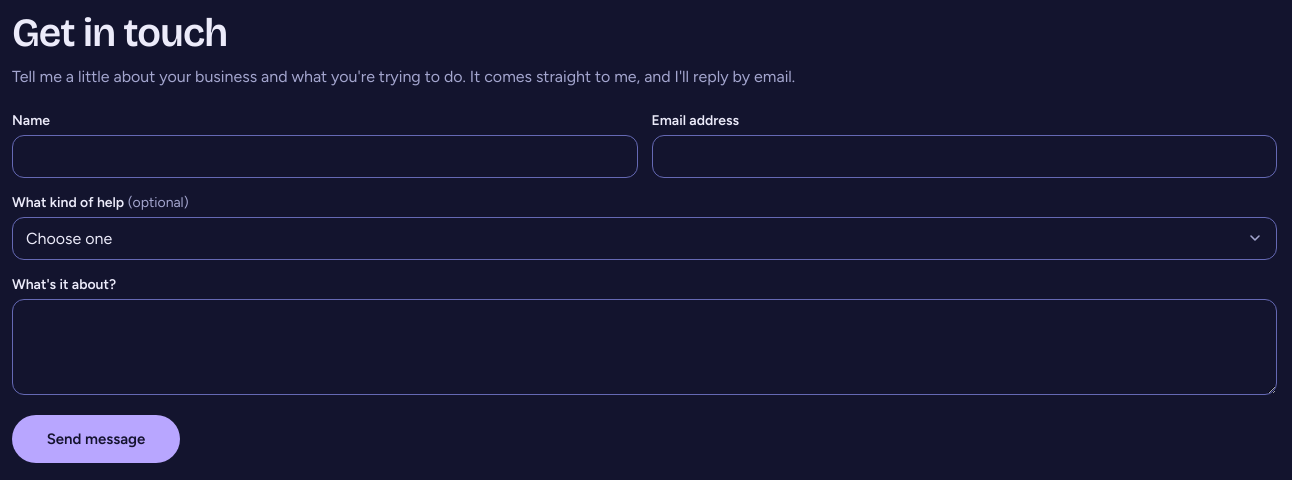
it: EnquiryForm › leaves out the kind of help when none is chosen
Step 1. Type "Ada" into the field labelled "Name" → point(325, 156), box x1=12 y1=135 x2=638 y2=178
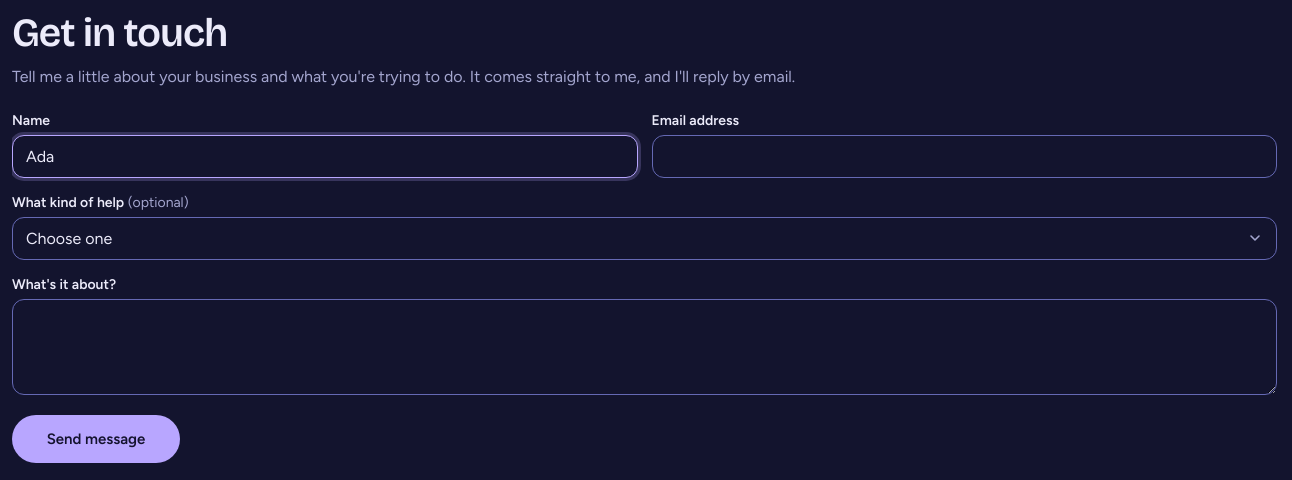
Step 2. Type "ada@example.com" into the field labelled "Email address" → point(964, 156), box x1=652 y1=135 x2=1277 y2=178
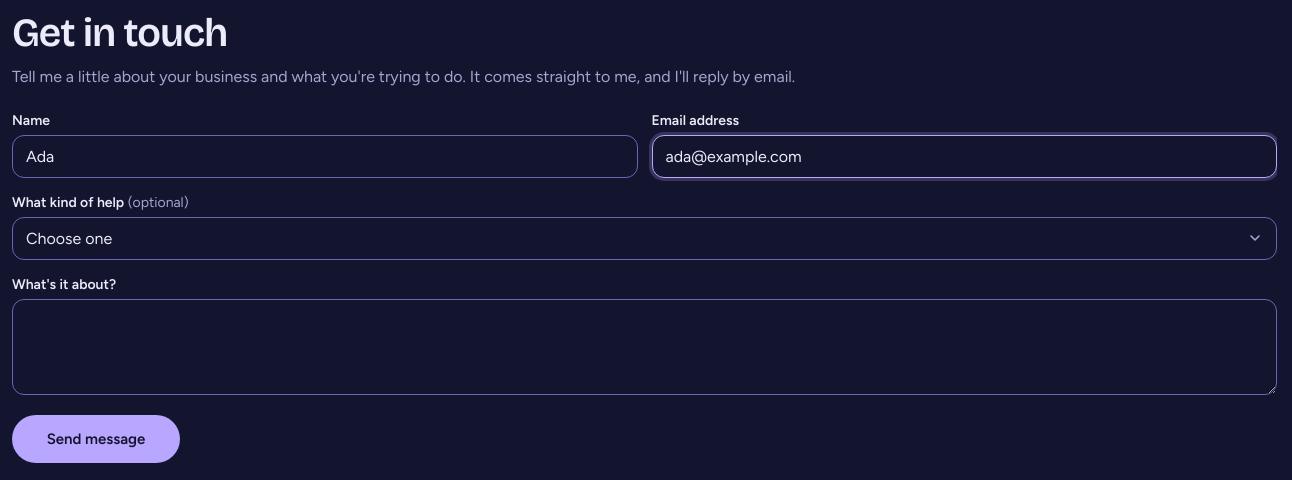
Step 3. Type "Hello" into the text box labelled "What's it about?" → point(644, 347), box x1=12 y1=299 x2=1277 y2=395
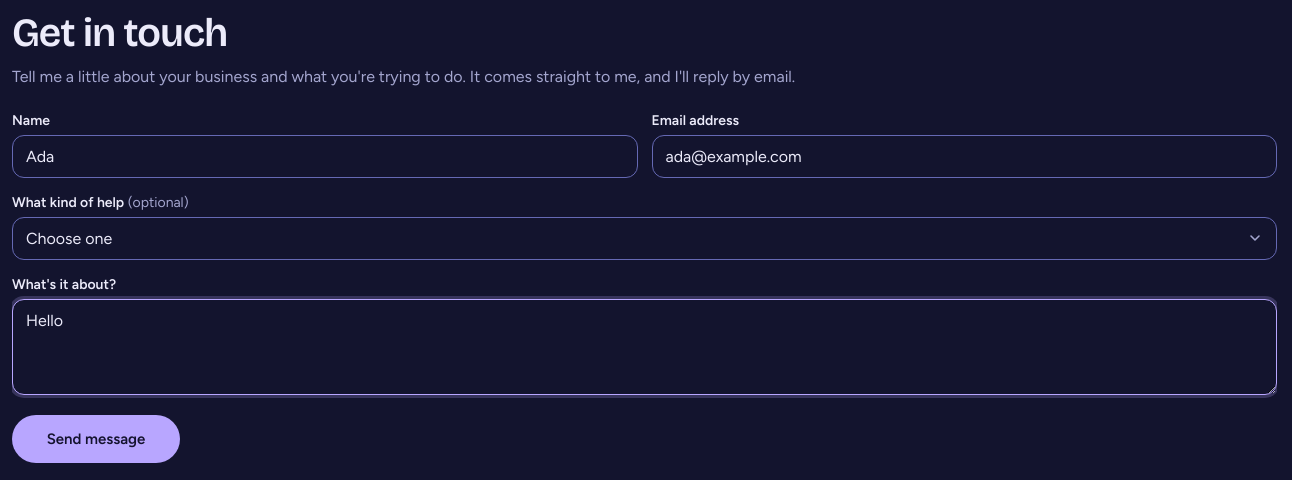
Step 4. Click the button "Send message" → point(96, 439), box x1=12 y1=415 x2=180 y2=463
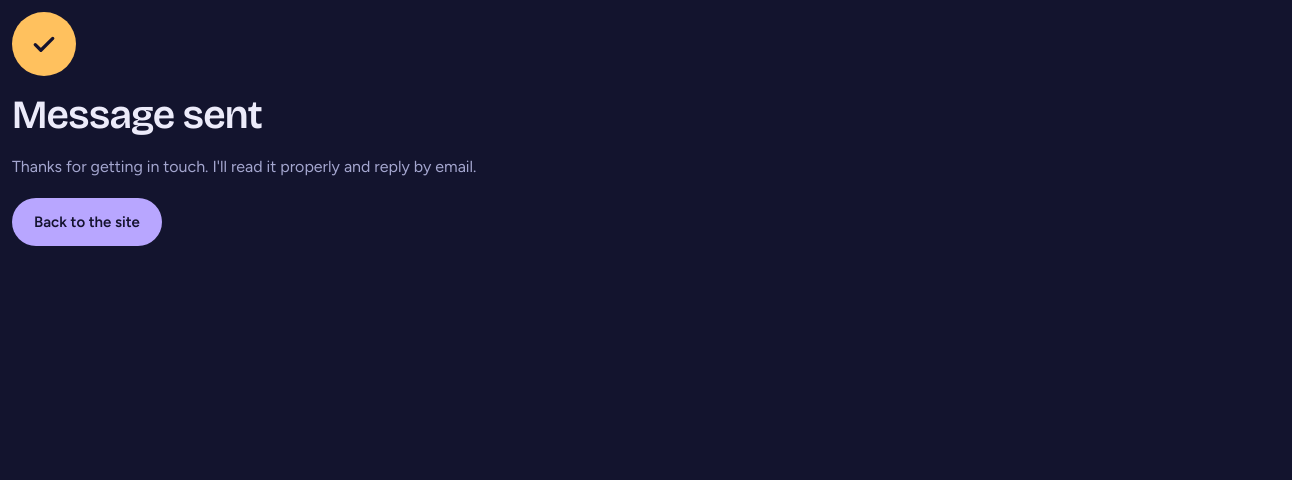
Expected: the heading "Message sent" is shown, x1=12 y1=91 x2=262 y2=139
